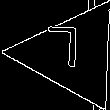L_S: (53, 28, 91, 79)
